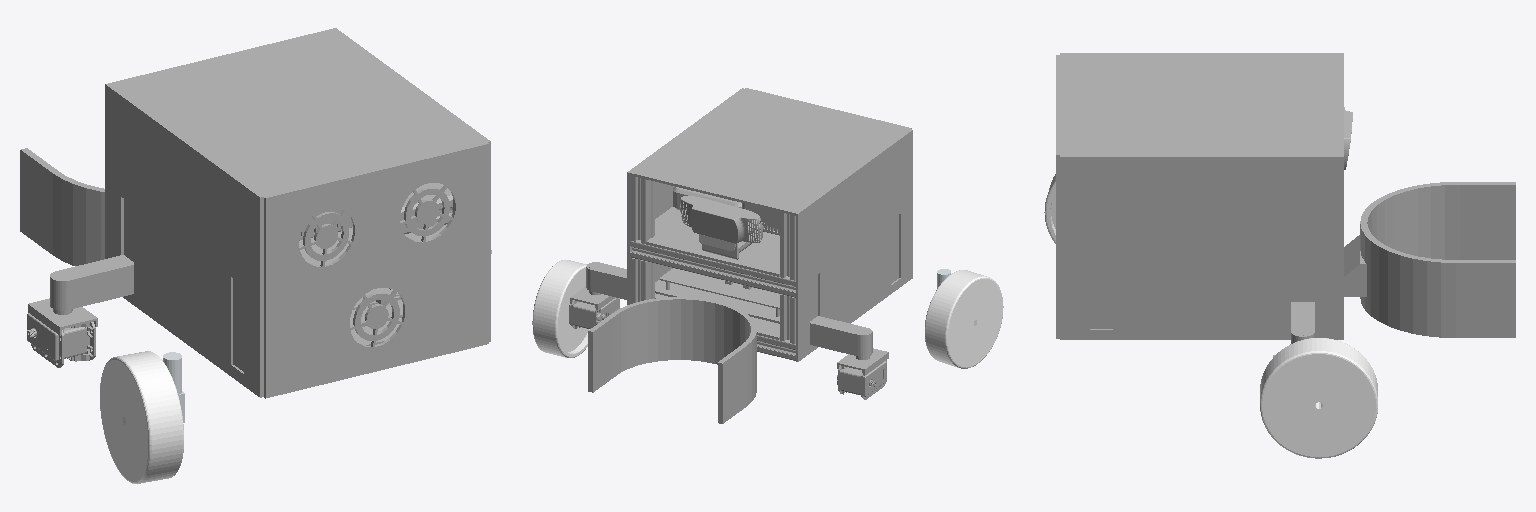
URDF robot description (4wheel_castle2):
<?xml version="1.0" encoding="utf-8"?>
<!-- This URDF was automatically created by SolidWorks to URDF Exporter! Originally created by [author] ([email redacted]) 
     Commit Version: 1.5.1-0-g916b5db  Build Version: 1.5.7152.31018
     For more information, please see http://wiki.ros.org/sw_urdf_exporter -->
<robot
  name="4wheel_castle2">
  <link
    name="base">
    <inertial>
      <origin
        xyz="-0.101222450007234 0.0611878805385779 0.134712291964518"
        rpy="0 0 0" />
      <mass
        value="5.04599768700975" />
      <inertia
        ixx="0.0199585188421209"
        ixy="3.5792448395538E-07"
        ixz="-8.4963369555268E-07"
        iyy="0.0204011323429147"
        iyz="8.69413175240226E-06"
        izz="0.0133780567917248" />
    </inertial>
    <visual>
      <origin
        xyz="0 0 0"
        rpy="0 0 0" />
      <geometry>
        <mesh
          filename="package://4wheel_castle2/meshes/base.STL" />
      </geometry>
      <material
        name="">
        <color
          rgba="0.752941176470588 0.752941176470588 0.752941176470588 1" />
      </material>
    </visual>
    <collision>
      <origin
        xyz="0 0 0"
        rpy="0 0 0" />
      <geometry>
        <mesh
          filename="package://4wheel_castle2/meshes/base.STL" />
      </geometry>
    </collision>
  </link>
  <link
    name="LFS">
    <inertial>
      <origin
        xyz="0.066688 -0.025617 0.027258"
        rpy="0 0 0" />
      <mass
        value="0.26437" />
      <inertia
        ixx="3.2075E-05"
        ixy="-1.4412E-07"
        ixz="-6.3085E-08"
        iyy="6.227E-05"
        iyz="-2.0189E-07"
        izz="6.2852E-05" />
    </inertial>
    <visual>
      <origin
        xyz="0 0 0"
        rpy="0 0 0" />
      <geometry>
        <mesh
          filename="package://4wheel_castle2/meshes/LFS.STL" />
      </geometry>
      <material
        name="">
        <color
          rgba="0.75294 0.75294 0.75294 1" />
      </material>
    </visual>
    <collision>
      <origin
        xyz="0 0 0"
        rpy="0 0 0" />
      <geometry>
        <mesh
          filename="package://4wheel_castle2/meshes/LFS.STL" />
      </geometry>
    </collision>
  </link>
  <joint
    name="LFS"
    type="prismatic">
    <origin
      xyz="-0.30216 -0.05081 0.029427"
      rpy="2.834 0 0" />
    <parent
      link="base" />
    <child
      link="LFS" />
    <axis
      xyz="0 0.3028 -0.95305" />
    <limit
      lower="0"
      upper="0"
      effort="0"
      velocity="0" />
  </joint>
  <link
    name="LFW">
    <inertial>
      <origin
        xyz="-0.012316 -2.7756E-17 5.8981E-17"
        rpy="0 0 0" />
      <mass
        value="0.19359" />
      <inertia
        ixx="0.00025308"
        ixy="2.0397E-19"
        ixz="-4.8808E-19"
        iyy="0.00013682"
        iyz="1.6941E-21"
        izz="0.00013682" />
    </inertial>
    <visual>
      <origin
        xyz="0 0 0"
        rpy="0 0 0" />
      <geometry>
        <mesh
          filename="package://4wheel_castle2/meshes/LFW.STL" />
      </geometry>
      <material
        name="">
        <color
          rgba="1 1 1 1" />
      </material>
    </visual>
    <collision>
      <origin
        xyz="0 0 0"
        rpy="0 0 0" />
      <geometry>
        <mesh
          filename="package://4wheel_castle2/meshes/LFW.STL" />
      </geometry>
    </collision>
  </link>
  <joint
    name="LFW"
    type="continuous">
    <origin
      xyz="0.00041099 -0.047479 0.052309"
      rpy="1.2177 0 -3.1416" />
    <parent
      link="LFS" />
    <child
      link="LFW" />
    <axis
      xyz="1 0 0" />
    <limit
      effort="3.1"
      velocity="7" />
  </joint>
  <link
    name="RFS">
    <inertial>
      <origin
        xyz="0.072447 -0.031683 0.02534"
        rpy="0 0 0" />
      <mass
        value="0.26437" />
      <inertia
        ixx="3.2075E-05"
        ixy="1.4412E-07"
        ixz="6.3085E-08"
        iyy="6.227E-05"
        iyz="-2.0189E-07"
        izz="6.2852E-05" />
    </inertial>
    <visual>
      <origin
        xyz="0 0 0"
        rpy="0 0 0" />
      <geometry>
        <mesh
          filename="package://4wheel_castle2/meshes/RFS.STL" />
      </geometry>
      <material
        name="">
        <color
          rgba="0.75294 0.75294 0.75294 1" />
      </material>
    </visual>
    <collision>
      <origin
        xyz="0 0 0"
        rpy="0 0 0" />
      <geometry>
        <mesh
          filename="package://4wheel_castle2/meshes/RFS.STL" />
      </geometry>
    </collision>
  </link>
  <joint
    name="RFS"
    type="prismatic">
    <origin
      xyz="0.10792 -0.012126 0.029427"
      rpy="2.834 0 -3.1416" />
    <parent
      link="base" />
    <child
      link="RFS" />
    <axis
      xyz="0 0.3028 -0.95305" />
    <limit
      lower="0"
      upper="0"
      effort="0"
      velocity="0" />
  </joint>
  <link
    name="RFW">
    <inertial>
      <origin
        xyz="-0.012316 -4.4409E-16 2.7756E-16"
        rpy="0 0 0" />
      <mass
        value="0.19359" />
      <inertia
        ixx="0.00025308"
        ixy="9.8823E-24"
        ixz="5.1839E-21"
        iyy="0.00013682"
        iyz="4.2352E-22"
        izz="0.00013682" />
    </inertial>
    <visual>
      <origin
        xyz="0 0 0"
        rpy="0 0 0" />
      <geometry>
        <mesh
          filename="package://4wheel_castle2/meshes/RFW.STL" />
      </geometry>
      <material
        name="">
        <color
          rgba="1 1 1 1" />
      </material>
    </visual>
    <collision>
      <origin
        xyz="0 0 0"
        rpy="0 0 0" />
      <geometry>
        <mesh
          filename="package://4wheel_castle2/meshes/RFW.STL" />
      </geometry>
    </collision>
  </link>
  <joint
    name="RFW"
    type="continuous">
    <origin
      xyz="0.0061708 -0.028286 0.058405"
      rpy="-1.8458 0 -3.1416" />
    <parent
      link="RFS" />
    <child
      link="RFW" />
    <axis
      xyz="1 0 0" />
    <limit
      effort="3.1"
      velocity="7" />
  </joint>
  <link
    name="LBS">
    <inertial>
      <origin
        xyz="0.075402 -0.020601 0.012626"
        rpy="0 0 0" />
      <mass
        value="0.19701" />
      <inertia
        ixx="1.688E-05"
        ixy="2.0771E-19"
        ixz="-1.6354E-19"
        iyy="5.0218E-05"
        iyz="1.0509E-06"
        izz="4.7245E-05" />
    </inertial>
    <visual>
      <origin
        xyz="0 0 0"
        rpy="0 0 0" />
      <geometry>
        <mesh
          filename="package://4wheel_castle2/meshes/LBS.STL" />
      </geometry>
      <material
        name="">
        <color
          rgba="0.75294 0.75294 0.75294 1" />
      </material>
    </visual>
    <collision>
      <origin
        xyz="0 0 0"
        rpy="0 0 0" />
      <geometry>
        <mesh
          filename="package://4wheel_castle2/meshes/LBS.STL" />
      </geometry>
    </collision>
  </link>
  <joint
    name="LBS"
    type="prismatic">
    <origin
      xyz="-0.30216 -0.18919 -0.015774"
      rpy="-0.30763 0 0" />
    <parent
      link="base" />
    <child
      link="LBS" />
    <axis
      xyz="0 0.3028 -0.95305" />
    <limit
      lower="0"
      upper="0"
      effort="0"
      velocity="0" />
  </joint>
  <link
    name="LBC">
    <inertial>
      <origin
        xyz="0.00221267724899019 -8.10587101562968E-05 2.77555756156289E-17"
        rpy="0 0 0" />
      <mass
        value="0.0324803918529465" />
      <inertia
        ixx="8.86383358400043E-06"
        ixy="1.20679092415291E-06"
        ixz="-2.43521972335611E-21"
        iyy="2.82924094574379E-06"
        iyz="5.82756204115591E-21"
        izz="1.07052324634925E-05" />
    </inertial>
    <visual>
      <origin
        xyz="0 0 0"
        rpy="0 0 0" />
      <geometry>
        <mesh
          filename="package://4wheel_castle2/meshes/LBC.STL" />
      </geometry>
      <material
        name="">
        <color
          rgba="0.898039215686275 0.917647058823529 0.929411764705882 1" />
      </material>
    </visual>
    <collision>
      <origin
        xyz="0 0 0"
        rpy="0 0 0" />
      <geometry>
        <mesh
          filename="package://4wheel_castle2/meshes/LBC.STL" />
      </geometry>
    </collision>
  </link>
  <joint
    name="LBC"
    type="continuous">
    <origin
      xyz="0.041161 -0.015068 -0.0047875"
      rpy="1.2653 -0.036921 3.0251" />
    <parent
      link="LBS" />
    <child
      link="LBC" />
    <axis
      xyz="0 1 0" />
  </joint>
  <link
    name="LBW">
    <inertial>
      <origin
        xyz="-0.0155089419428623 -0.0184390197293757 -0.0160336018603206"
        rpy="0 0 0" />
      <mass
        value="0.193585420779862" />
      <inertia
        ixx="0.000253081141332253"
        ixy="9.06325253562101E-20"
        ixz="1.03338019565025E-19"
        iyy="0.000136818598566516"
        iyz="-3.3881317890172E-21"
        izz="0.000136818598566516" />
    </inertial>
    <visual>
      <origin
        xyz="0 0 0"
        rpy="0 0 0" />
      <geometry>
        <mesh
          filename="package://4wheel_castle2/meshes/LBW.STL" />
      </geometry>
      <material
        name="">
        <color
          rgba="1 1 1 1" />
      </material>
    </visual>
    <collision>
      <origin
        xyz="0 0 0"
        rpy="0 0 0" />
      <geometry>
        <mesh
          filename="package://4wheel_castle2/meshes/LBW.STL" />
      </geometry>
    </collision>
  </link>
  <joint
    name="LBW"
    type="continuous">
    <origin
      xyz="0.043943 -0.003028 0.020135"
      rpy="0.2527 0 0" />
    <parent
      link="LBC" />
    <child
      link="LBW" />
    <axis
      xyz="1 0 0" />
    <limit
      effort="3.1"
      velocity="7" />
  </joint>
  <link
    name="RBS">
    <inertial>
      <origin
        xyz="0.075402 -0.0095357 -0.022201"
        rpy="0 0 0" />
      <mass
        value="0.19701" />
      <inertia
        ixx="1.688E-05"
        ixy="-8.6209E-20"
        ixz="-8.6491E-21"
        iyy="5.0218E-05"
        iyz="1.0509E-06"
        izz="4.7245E-05" />
    </inertial>
    <visual>
      <origin
        xyz="0 0 0"
        rpy="0 0 0" />
      <geometry>
        <mesh
          filename="package://4wheel_castle2/meshes/RBS.STL" />
      </geometry>
      <material
        name="">
        <color
          rgba="0.75294 0.75294 0.75294 1" />
      </material>
    </visual>
    <collision>
      <origin
        xyz="0 0 0"
        rpy="0 0 0" />
      <geometry>
        <mesh
          filename="package://4wheel_castle2/meshes/RBS.STL" />
      </geometry>
    </collision>
  </link>
  <joint
    name="RBS"
    type="prismatic">
    <origin
      xyz="0.10216 -0.18919 -0.015774"
      rpy="2.834 0 -3.1416" />
    <parent
      link="base" />
    <child
      link="RBS" />
    <axis
      xyz="0 0.3028 -0.95305" />
    <limit
      lower="0"
      upper="0"
      effort="0"
      velocity="0" />
  </joint>
  <link
    name="RBC">
    <inertial>
      <origin
        xyz="0.00221267724899018 -8.10587101562586E-05 -2.77555756156289E-17"
        rpy="0 0 0" />
      <mass
        value="0.0324803918529465" />
      <inertia
        ixx="8.86383358400041E-06"
        ixy="1.20679092415297E-06"
        ixz="-4.49986253228847E-22"
        iyy="2.82924094574381E-06"
        iyz="-1.42275065359121E-21"
        izz="1.07052324634925E-05" />
    </inertial>
    <visual>
      <origin
        xyz="0 0 0"
        rpy="0 0 0" />
      <geometry>
        <mesh
          filename="package://4wheel_castle2/meshes/RBC.STL" />
      </geometry>
      <material
        name="">
        <color
          rgba="0.898039215686275 0.917647058823529 0.929411764705882 1" />
      </material>
    </visual>
    <collision>
      <origin
        xyz="0 0 0"
        rpy="0 0 0" />
      <geometry>
        <mesh
          filename="package://4wheel_castle2/meshes/RBC.STL" />
      </geometry>
    </collision>
  </link>
  <joint
    name="RBC"
    type="continuous">
    <origin
      xyz="0.041161 -0.015068 -0.0047875"
      rpy="-1.8784 -0.003856 3.1295" />
    <parent
      link="RBS" />
    <child
      link="RBC" />
    <axis
      xyz="0 1 0" />
  </joint>
  <link
    name="RBW">
    <inertial>
      <origin
        xyz="0.0176794105128818 0 1.31838984174237E-16"
        rpy="0 0 0" />
      <mass
        value="0.193585420779862" />
      <inertia
        ixx="0.000253081141332254"
        ixy="9.89969757103464E-20"
        ixz="8.8196643888364E-19"
        iyy="0.000136818598566517"
        iyz="1.27054942088145E-21"
        izz="0.000136818598566517" />
    </inertial>
    <visual>
      <origin
        xyz="0 0 0"
        rpy="0 0 0" />
      <geometry>
        <mesh
          filename="package://4wheel_castle2/meshes/RBW.STL" />
      </geometry>
      <material
        name="">
        <color
          rgba="1 1 1 1" />
      </material>
    </visual>
    <collision>
      <origin
        xyz="0 0 0"
        rpy="0 0 0" />
      <geometry>
        <mesh
          filename="package://4wheel_castle2/meshes/RBW.STL" />
      </geometry>
    </collision>
  </link>
  <joint
    name="RBW"
    type="continuous">
    <origin
      xyz="0.010755 -0.016873 0"
      rpy="-1.5287 0 0" />
    <parent
      link="RBC" />
    <child
      link="RBW" />
    <axis
      xyz="1 0 0" />
    <limit
      effort="3.1"
      velocity="7" />
  </joint>
  <link
    name="Cam">
    <inertial>
      <origin
        xyz="-0.01933 0.10483 0.10576"
        rpy="0 0 0" />
      <mass
        value="0.084224" />
      <inertia
        ixx="2.9796E-05"
        ixy="-5.7052E-07"
        ixz="-4.8463E-07"
        iyy="1.3987E-05"
        iyz="1.6709E-08"
        izz="3.7024E-05" />
    </inertial>
    <visual>
      <origin
        xyz="0 0 0"
        rpy="0 0 0" />
      <geometry>
        <mesh
          filename="package://4wheel_castle2/meshes/Cam.STL" />
      </geometry>
      <material
        name="">
        <color
          rgba="0.75294 0.75294 0.75294 1" />
      </material>
    </visual>
    <collision>
      <origin
        xyz="0 0 0"
        rpy="0 0 0" />
      <geometry>
        <mesh
          filename="package://4wheel_castle2/meshes/Cam.STL" />
      </geometry>
    </collision>
  </link>
  <joint
    name="Cam"
    type="fixed">
    <origin
      xyz="0 0 0"
      rpy="0 0 1.5708" />
    <parent
      link="base" />
    <child
      link="Cam" />
    <axis
      xyz="0 0 0" />
  </joint>
  <link
    name="Lidar">
    <inertial>
      <origin
        xyz="0 0 0"
        rpy="0 0 0" />
      <mass
        value="0" />
      <inertia
        ixx="0"
        ixy="0"
        ixz="0"
        iyy="0"
        iyz="0"
        izz="0" />
    </inertial>
    <visual>
      <origin
        xyz="0 0 0"
        rpy="0 0 0" />
      <geometry>
        <mesh
          filename="package://4wheel_castle2/meshes/Lidar.STL" />
      </geometry>
      <material
        name="">
        <color
          rgba="1 1 1 1" />
      </material>
    </visual>
    <collision>
      <origin
        xyz="0 0 0"
        rpy="0 0 0" />
      <geometry>
        <mesh
          filename="package://4wheel_castle2/meshes/Lidar.STL" />
      </geometry>
    </collision>
  </link>
  <joint
    name="Lidar"
    type="fixed">
    <origin
      xyz="-0.23716 0.016589 -0.56869"
      rpy="1.5708 0 1.5973" />
    <parent
      link="base" />
    <child
      link="Lidar" />
    <axis
      xyz="0 0 0" />
  </joint>
</robot>

--- What the picture shows (computed from the rendered views, not written in the file) ---
3 views of the same robot in one strip: view 1: azimuth 30°, elevation 25°; view 2: azimuth 150°, elevation 25°; view 3: azimuth 270°, elevation 25° (orthographic).
Robot: 4wheel_castle2 — 13 links, 12 joints (6 continuous, 4 prismatic, 2 fixed); root link base; default pose: every joint at zero.
Links seen in each view (by area): view 1: base, LBW, LFS, LBC; view 2: base, LBW, RFW, LFS, Cam, RFS; view 3: base, RFW, RFS, LBW.
Boxes of the visible links, x1,y1,x2,y2 form: base: (20,28,490,398); LBW: (100,351,183,483); LFS: (27,255,133,367); LBC: (123,352,184,424); base: (588,88,912,423); LBW: (925,270,1003,368); RFW: (532,260,589,357); LFS: (810,316,888,399); Cam: (680,196,762,259); RFS: (569,262,626,328); base: (1056,53,1515,339); RFW: (1260,338,1377,458); RFS: (1273,302,1314,356); LBW: (1044,174,1055,243).
Bounding box of the posed robot: 0.409 × 0.3974 × 0.2358 m (x, y, z).
Meshes: 13 distinct files referenced, 7 mesh visuals loaded (7 binary STL); not drawn: 6 (reference not matched to a file when rendering).
